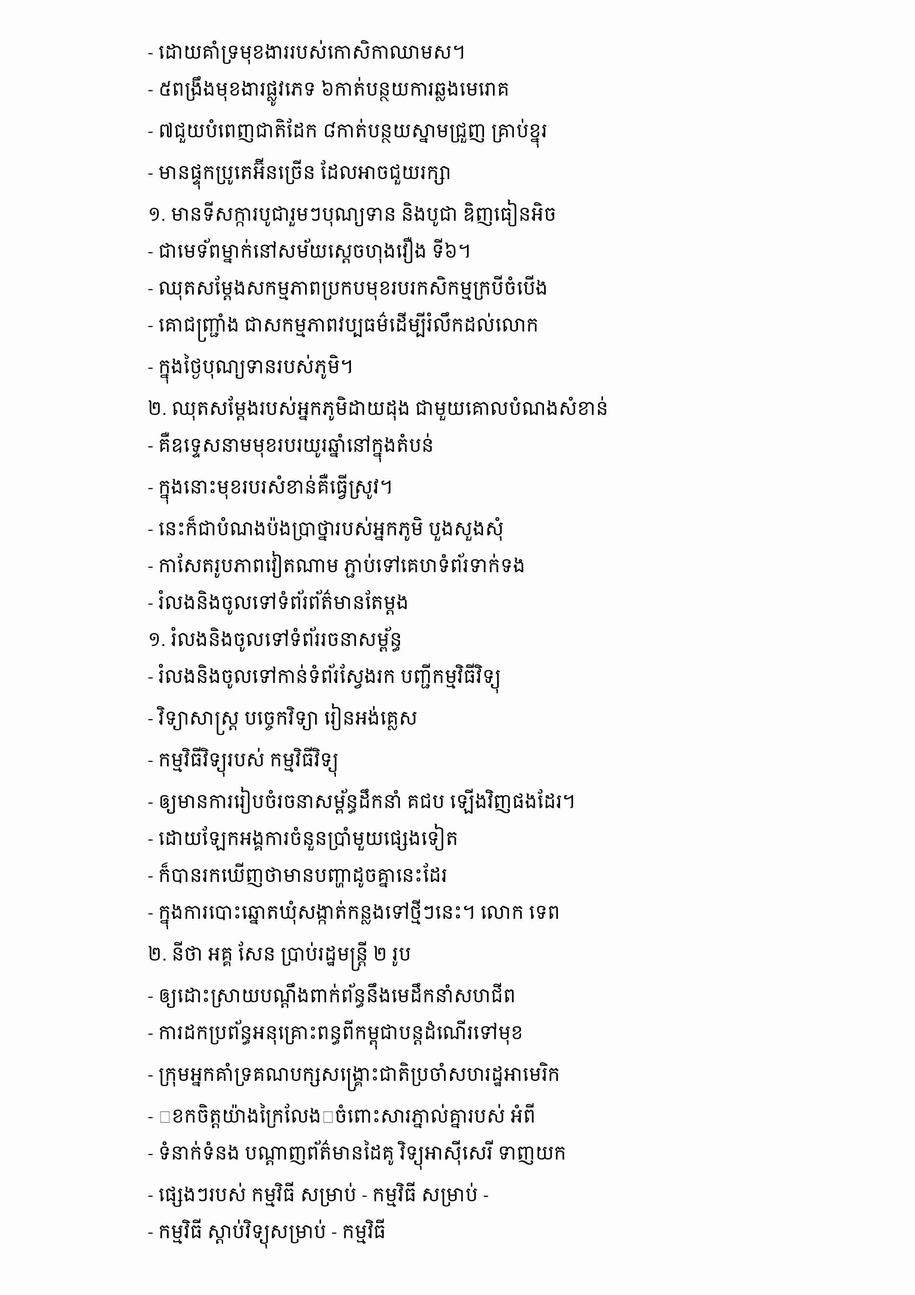text: (148, 899, 565, 930), (148, 1140, 572, 1170), (148, 1062, 565, 1092), (148, 118, 552, 148), (148, 312, 543, 342), (148, 787, 580, 814), (148, 396, 613, 421), (148, 199, 561, 227), (148, 1020, 528, 1050), (148, 663, 506, 694), (148, 76, 514, 106), (148, 551, 530, 578), (148, 1103, 541, 1129), (148, 275, 553, 300), (148, 158, 456, 190), (148, 983, 521, 1008), (148, 516, 509, 541), (148, 432, 439, 463), (148, 237, 476, 264), (148, 703, 422, 735), (148, 1182, 494, 1207), (148, 824, 463, 851), (148, 40, 470, 65), (148, 941, 416, 971), (148, 862, 452, 888), (148, 474, 397, 504), (148, 1219, 391, 1249), (148, 589, 414, 615), (148, 626, 407, 652), (148, 354, 358, 384), (148, 747, 343, 777)
